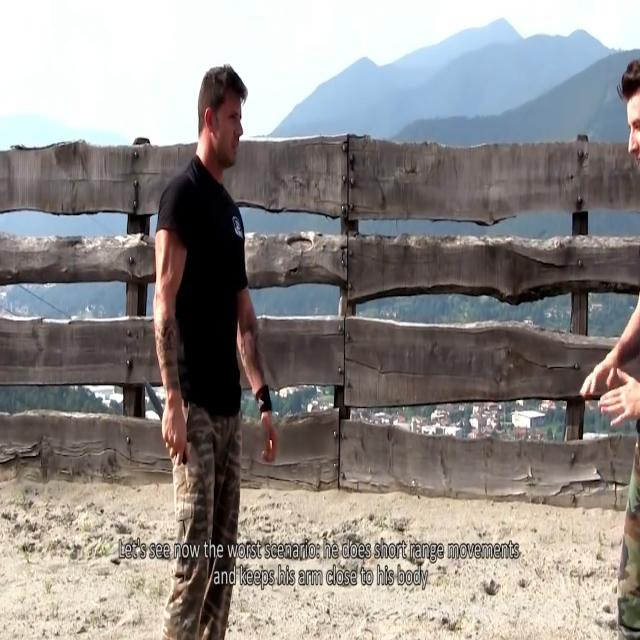knife: (143, 374, 163, 415)
